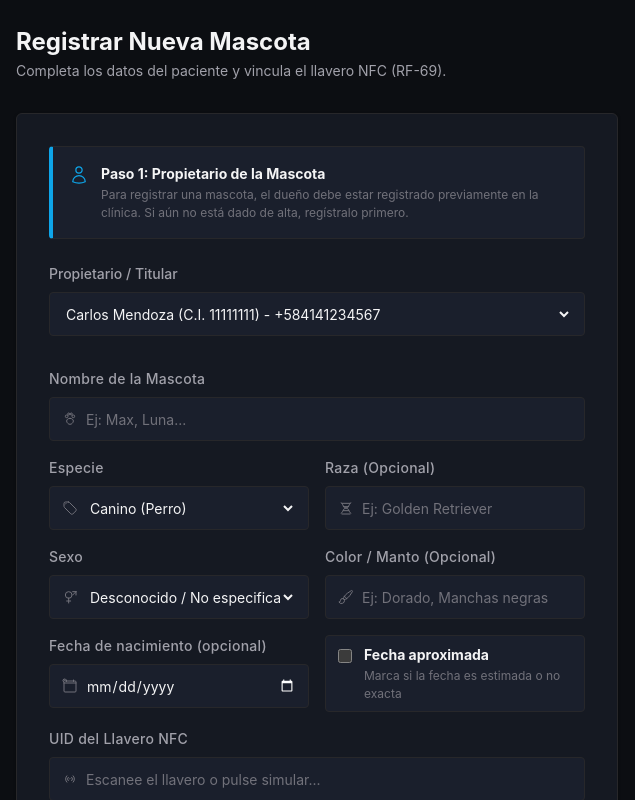
Test: UI Integration: PetRegisterScreen (RF-69, RF-30, RNF-3) › debe crear la mascota con fecha de nacimiento ISO-8601 y bandera isApproximateBirthDate
In the field with placeholder "Ej: Max, Luna...": (329, 419) [86,398,572,440], type "Rocky"
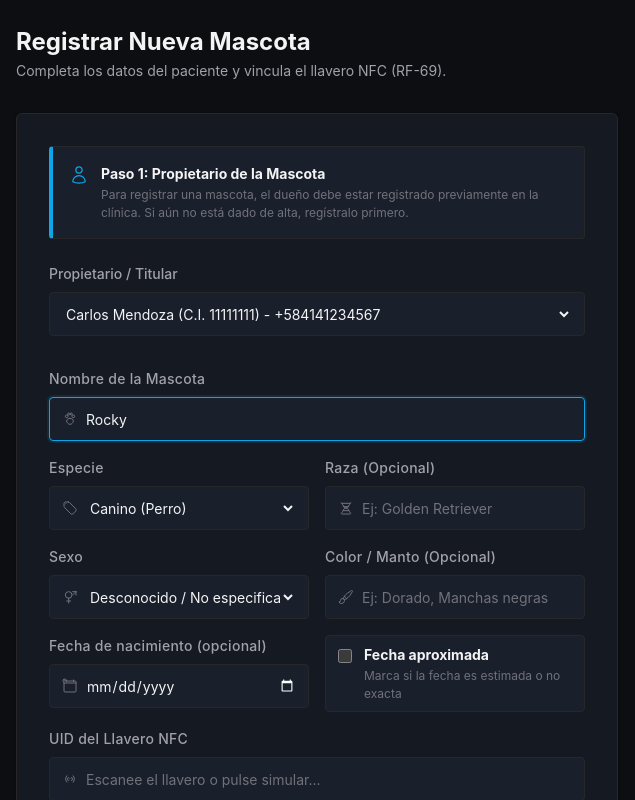
In the date field labelled "Fecha de nacimiento (opcional)": (191, 686) [86,665,296,707], type "2023-01-15"
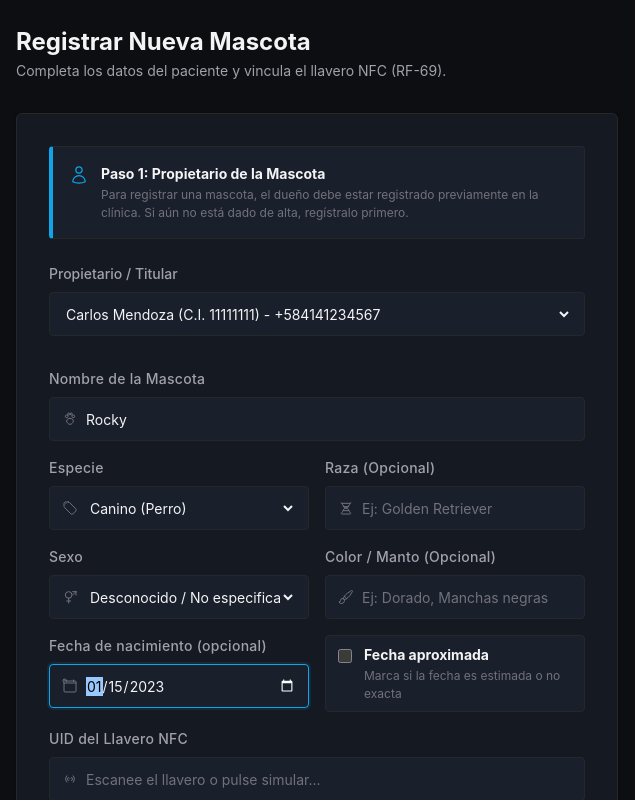
Click the checkbox labelled "Fecha aproximada Marca si la fecha es estimada o no exacta": (345, 656) [338,648,352,664]
(page scrolled)
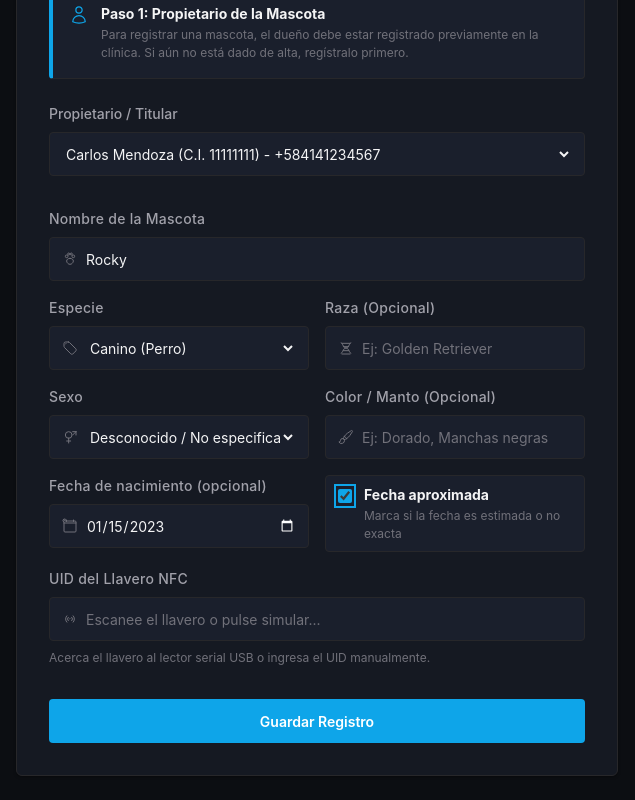
Click the button "Guardar Registro": (317, 721) [49,699,585,743]
(page scrolled)
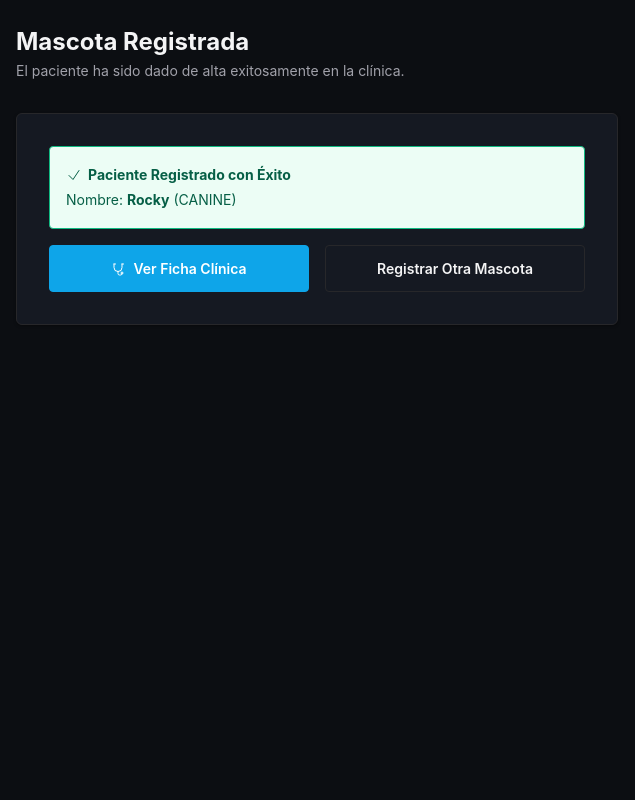
Result: the text "Rocky" is shown at [127,190,170,208]
